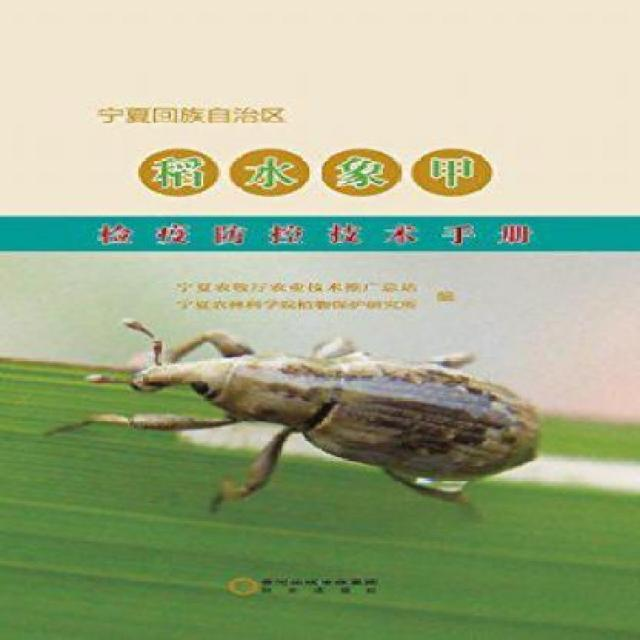rice-bug: (95, 326, 556, 505)
